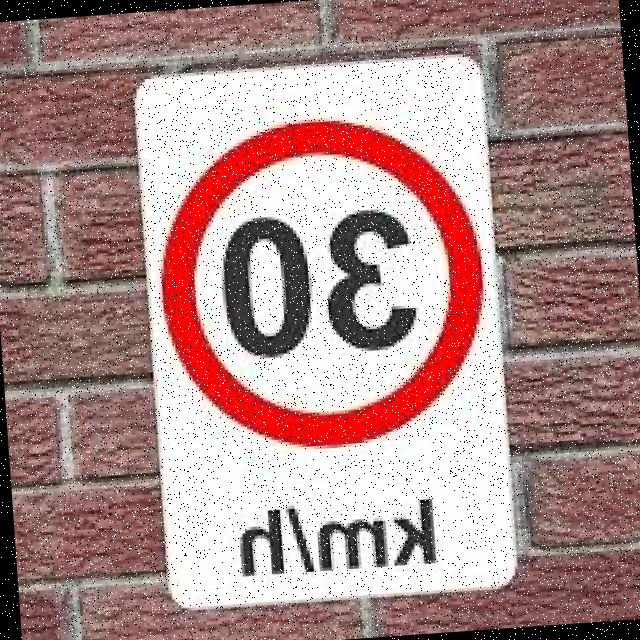speed_limit_30: (138, 99, 497, 464)
